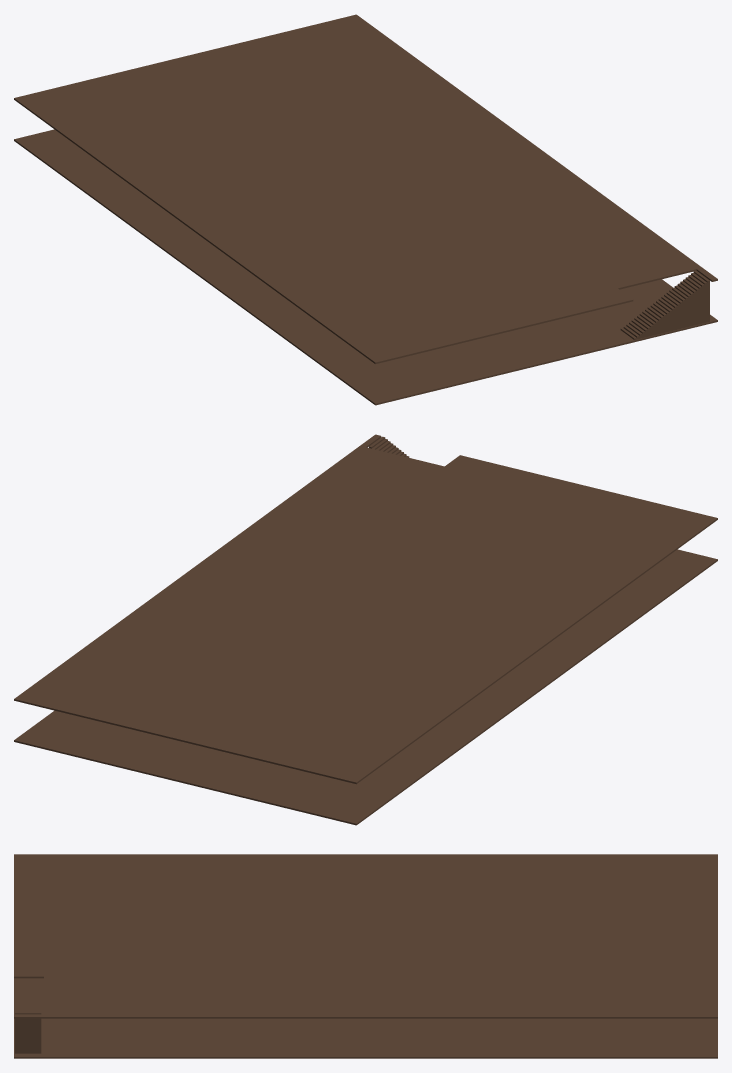
File: SM_Malikane_Zeminler.fbx
3 views of the same model, one above another, from view 1: azimuth 30°, elevation 25°; view 2: azimuth 150°, elevation 25°; view 3: azimuth 270°, elevation 25° (orthographic). The views are drawn at different scales.
Visible parts, largest first — view 1: Malikane_Zeminler; view 2: Malikane_Zeminler; view 3: Malikane_Zeminler.
Boxes of the visible parts, x1,y1,x2,y2 form: Malikane_Zeminler: (14, 14, 717, 405); Malikane_Zeminler: (14, 434, 717, 825); Malikane_Zeminler: (14, 854, 717, 1058).
Size of the model in its own units: 4350 by 520 by 7950.
